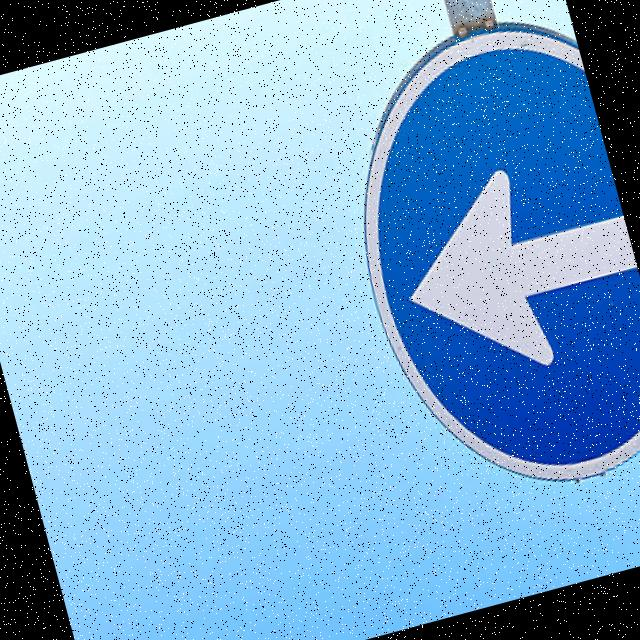compulsory_keep_right: (294, 0, 640, 545)
